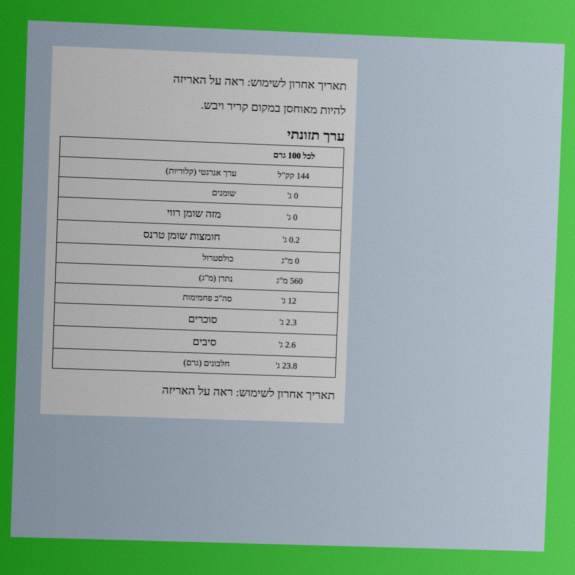carbs: (280, 295, 298, 306)
energy: (276, 169, 311, 182)
fat: (286, 190, 299, 201)
protein: (274, 360, 298, 372)
